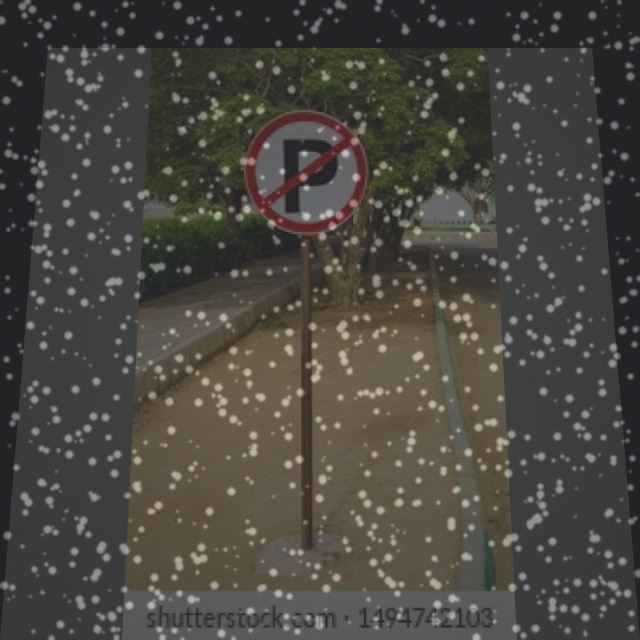No_Parking: (243, 111, 369, 237)
